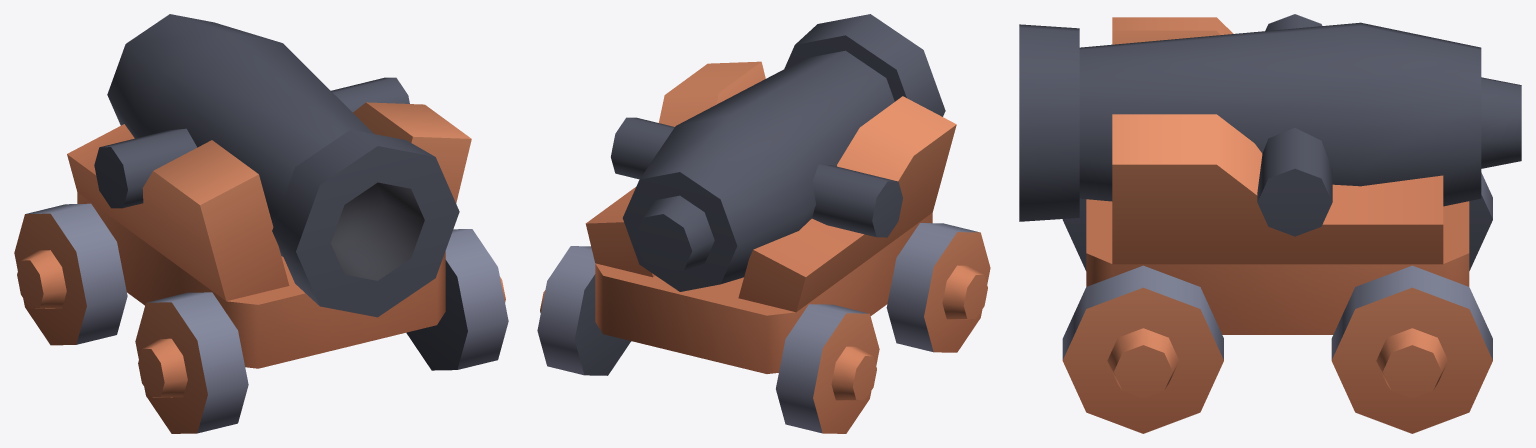
Rendered from cannon_mobile.glb.
The picture shows the model from 3 angles, left to right: view 1: azimuth 30°, elevation 25°; view 2: azimuth 150°, elevation 25°; view 3: azimuth 270°, elevation 25°; orthographic projection. The views are drawn at different scales.
Parts seen in each view (by area): view 1: cannon-mobile, Group (×2); view 2: cannon-mobile, Group (×2); view 3: cannon-mobile, Group (×2).
Boxes of the visible parts, box(x1,y1,x2,y2) form: cannon-mobile: box(14, 14, 508, 433); Group (×2): box(67, 102, 471, 301); cannon-mobile: box(537, 14, 990, 433); Group (×2): box(585, 61, 956, 312); cannon-mobile: box(1019, 14, 1521, 433); Group (×2): box(1112, 17, 1443, 264).
Bounding box in the file's own units: 1.68 × 1.38 × 1.92.
1 material, 1 textured.
